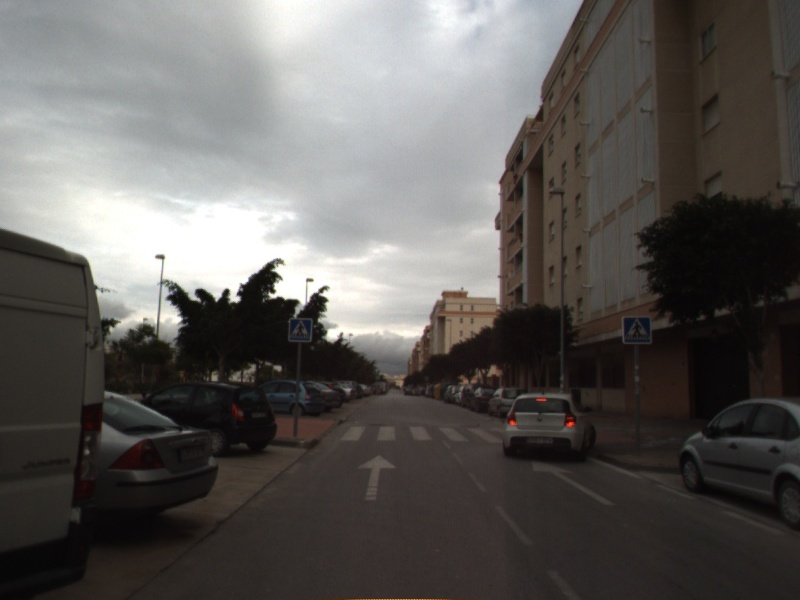STRAIGHT: (530, 459, 618, 508), (355, 453, 399, 503)
